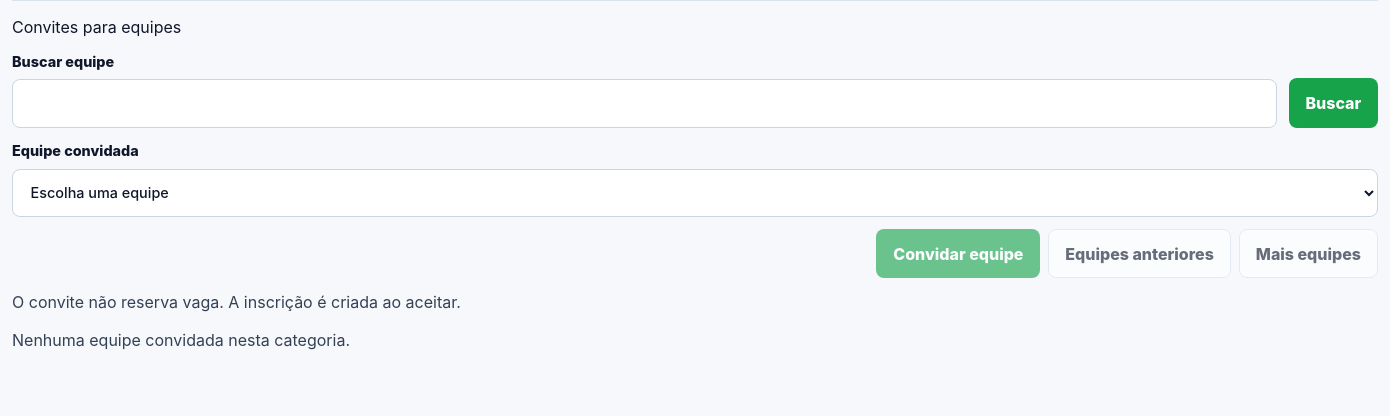
it: private invitations › preserves selected team on 403 without leaking errors
Select "Estrelas · Recife" in the dropdown labelled "Equipe convidada": (695, 193) x1=12 y1=169 x2=1378 y2=217
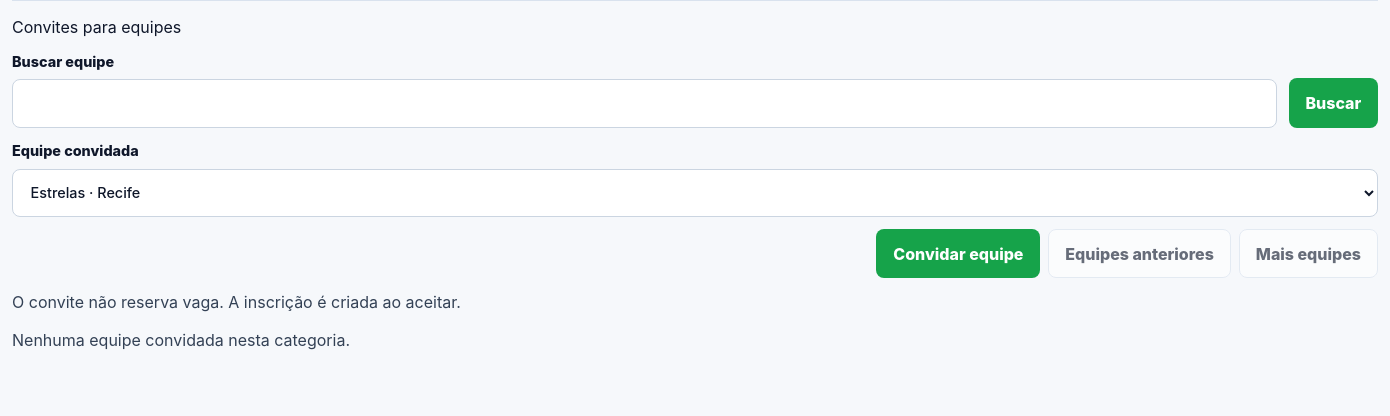
Click the button "Convidar equipe": click(958, 254) x1=876 y1=229 x2=1040 y2=278
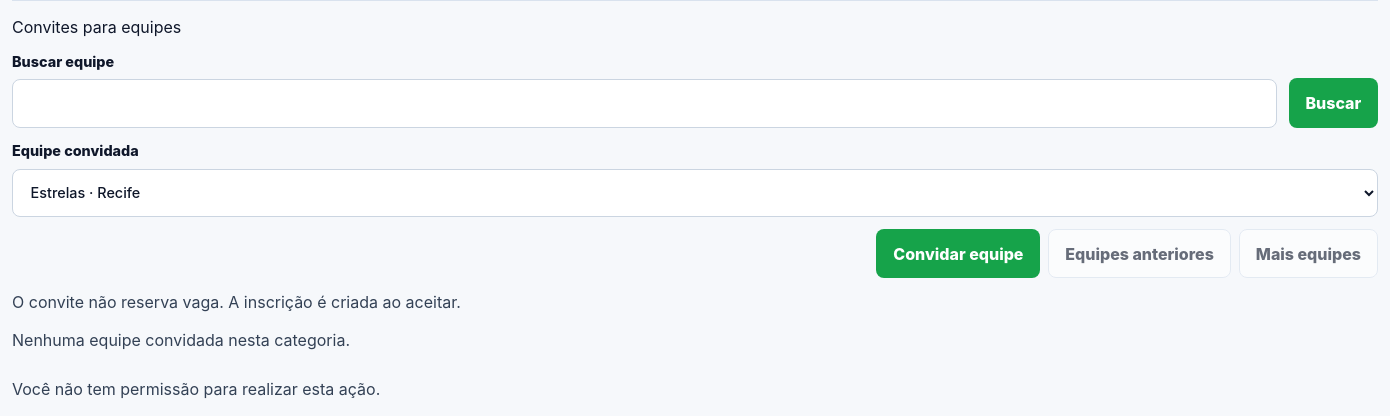
Expected: the message reads "Você não tem permissão para realizar esta ação.", x1=12 y1=380 x2=380 y2=400
